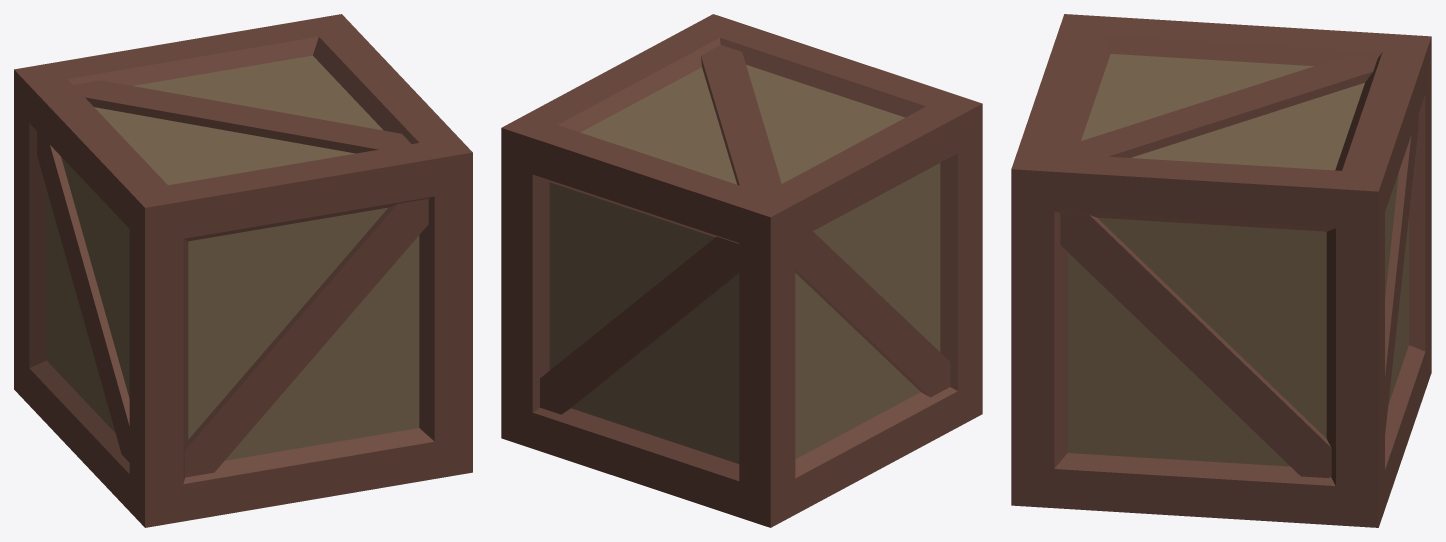
Rendered from crate.fbx.
3 views of the same model, side by side, from view 1: azimuth 30°, elevation 25°; view 2: azimuth 150°, elevation 25°; view 3: azimuth 270°, elevation 25° (orthographic). The views are drawn at different scales.
Parts seen in each view (by area): view 1: Crate; view 2: Crate; view 3: Crate.
Boxes of the visible parts, bbox=[...] form: Crate: bbox=[14, 14, 472, 527]; Crate: bbox=[501, 14, 982, 527]; Crate: bbox=[1011, 14, 1431, 527].
Size of the model in its own units: 67.22 by 59.35 by 67.22.
